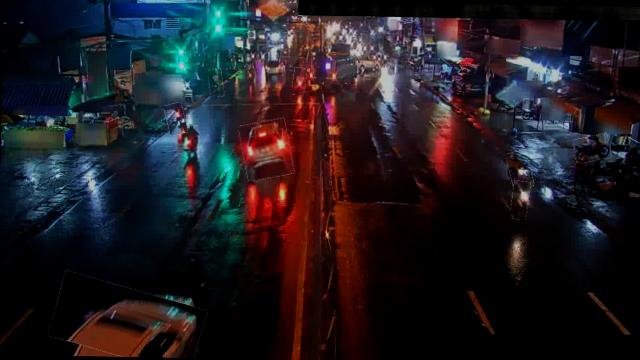Bike: (573, 133, 610, 162), (507, 150, 533, 189), (510, 180, 529, 219), (164, 102, 186, 134), (180, 125, 198, 162), (208, 68, 223, 96), (292, 66, 306, 94)
Car: (50, 278, 204, 357), (240, 118, 293, 180)
